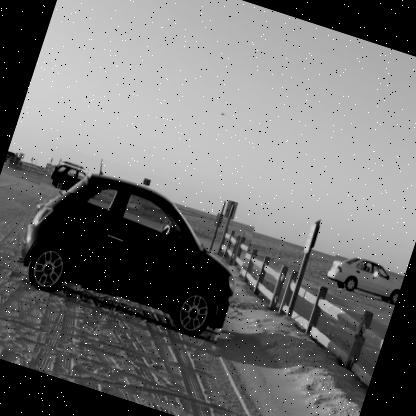Car: (9, 143, 260, 346), (324, 249, 406, 308), (50, 162, 92, 198), (6, 152, 20, 164)
